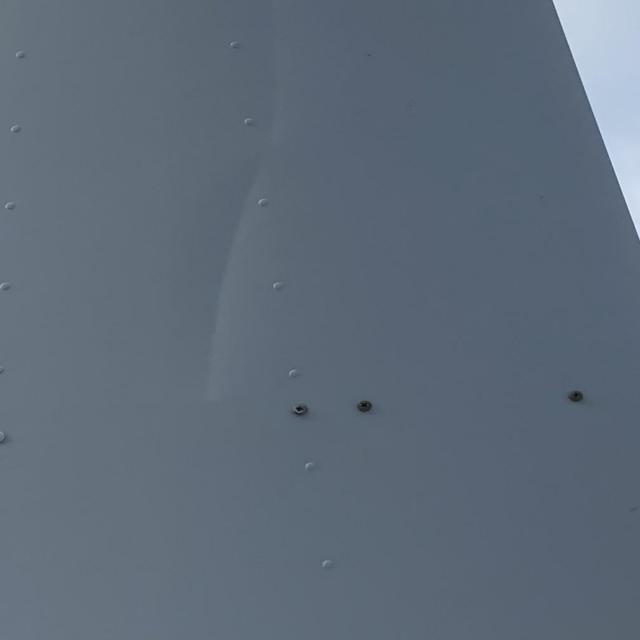Dent: (155, 0, 331, 443)
